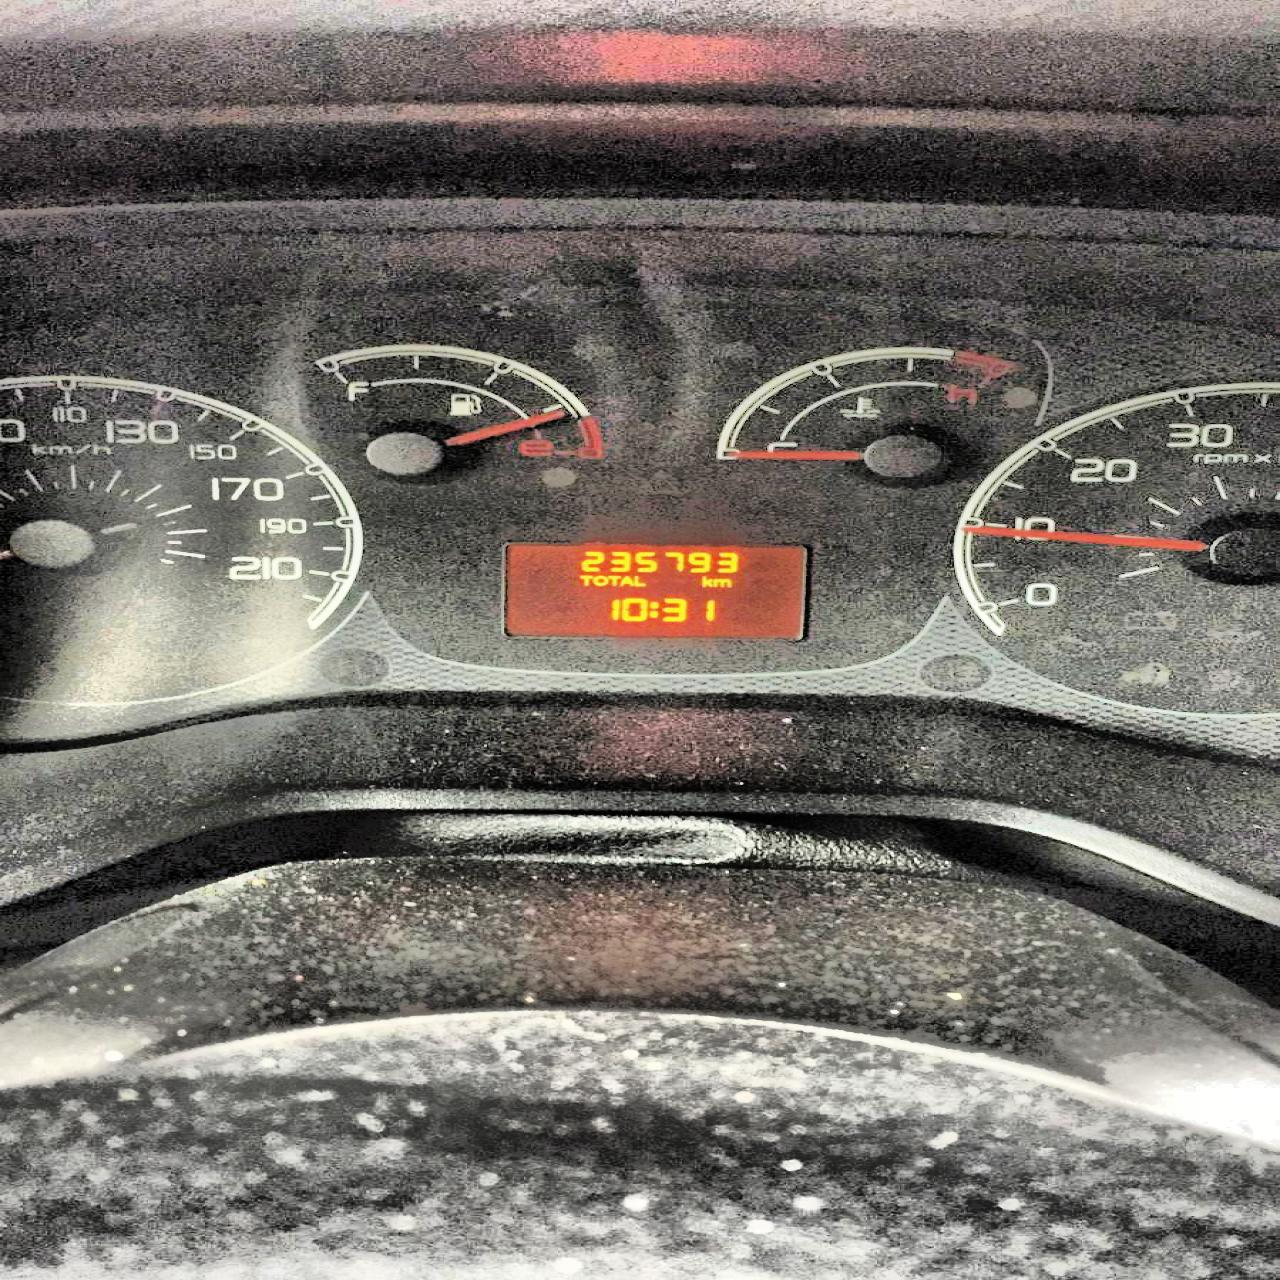0: (621, 597, 648, 621)
1: (700, 598, 717, 621), (604, 597, 619, 621)
2: (578, 550, 604, 572)
3: (659, 595, 688, 622), (607, 550, 632, 572), (715, 551, 738, 573)
5: (633, 550, 658, 572)
7: (660, 550, 683, 572)
9: (688, 550, 712, 573)
X: (710, 577, 730, 588), (577, 573, 592, 586), (648, 599, 658, 619), (606, 573, 620, 586), (592, 573, 606, 586), (632, 573, 645, 586), (620, 573, 633, 586), (697, 576, 712, 587)
odometer: (498, 542, 810, 640)
